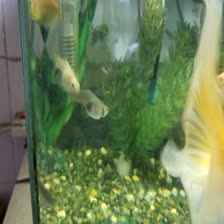Guppy: (67, 89, 114, 121), (50, 55, 81, 94)
